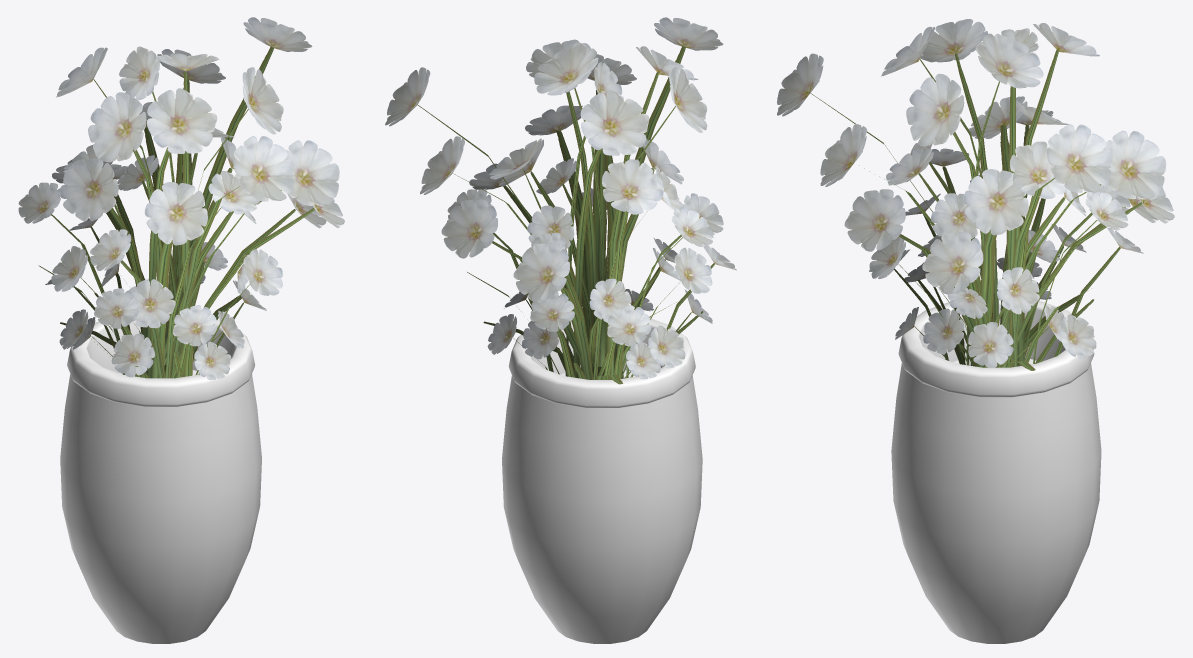
Rendered from SM_Potted_White2_Flower_C.fbx.
3 views of the same model, side by side, from view 1: azimuth 30°, elevation 25°; view 2: azimuth 150°, elevation 25°; view 3: azimuth 270°, elevation 25° (orthographic). The views are drawn at different scales.
Parts seen in each view (by area): view 1: SM_Potted_White2_Flower_C_LOD0; view 2: SM_Potted_White2_Flower_C_LOD0; view 3: SM_Potted_White2_Flower_C_LOD0.
Part boxes in pixels (<box>): SM_Potted_White2_Flower_C_LOD0: <box>18,17,344,643</box>; SM_Potted_White2_Flower_C_LOD0: <box>385,17,736,643</box>; SM_Potted_White2_Flower_C_LOD0: <box>777,19,1174,643</box>.
Size of the model in its own units: 42.81 by 46.79 by 75.3.
2 materials, 1 textured.
